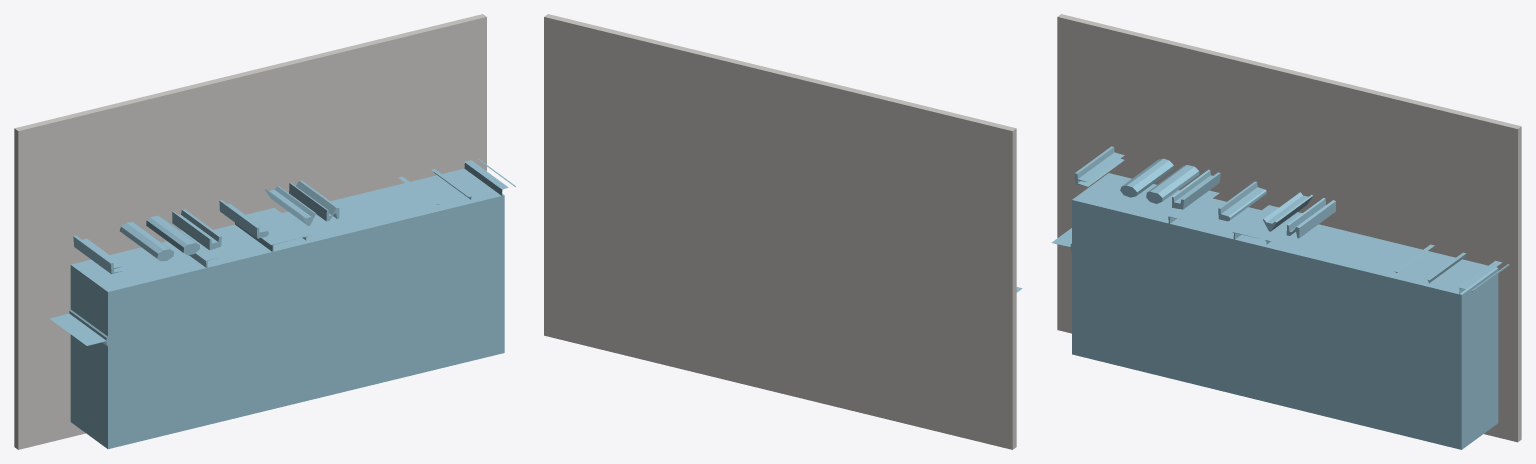
The picture shows the model from 3 angles, left to right: view 1: azimuth 30°, elevation 25°; view 2: azimuth 150°, elevation 25°; view 3: azimuth 330°, elevation 25°; orthographic projection.
Visible parts, largest first — view 1: world; view 2: world; view 3: world.
Boxes of the visible parts, x1,y1,x2,y2 form: world: (14,14,515,449); world: (544,14,1022,449); world: (1051,14,1521,449).
Size of the model in its own units: 10.23 by 6.65 by 1.56.
